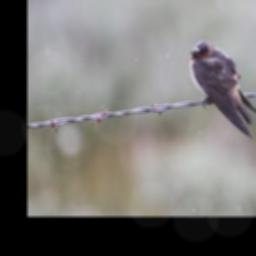Swallow: (187, 39, 256, 139)
